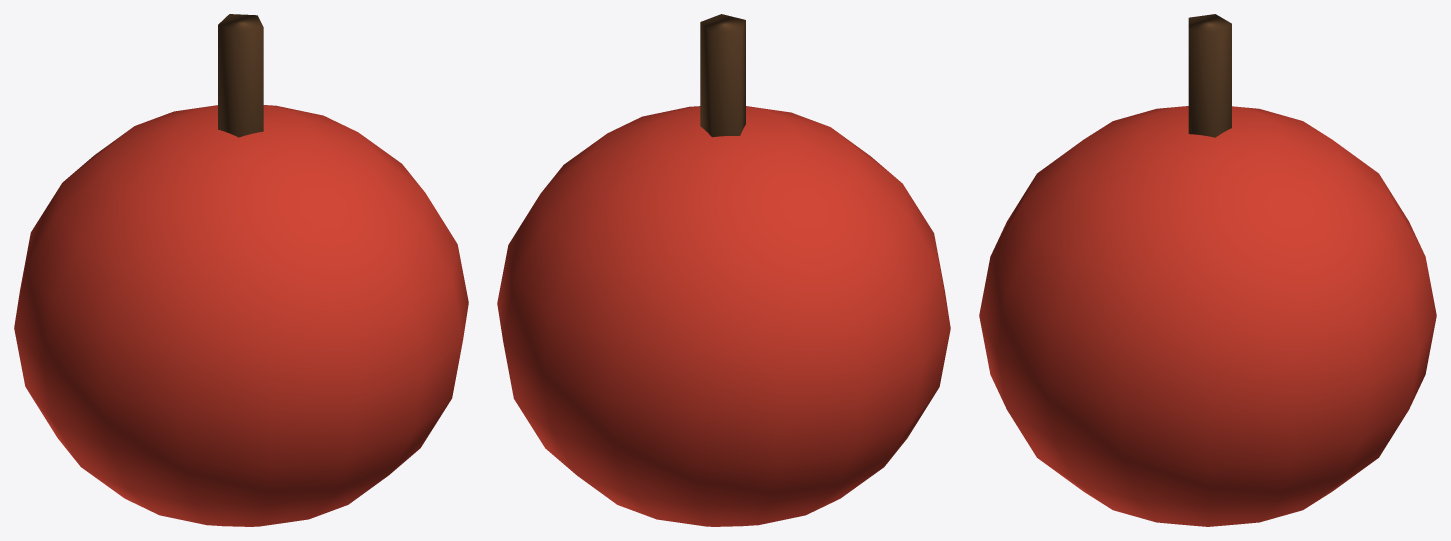
File: apple.fbx
The picture shows the model from 3 angles, left to right: view 1: azimuth 30°, elevation 25°; view 2: azimuth 150°, elevation 25°; view 3: azimuth 270°, elevation 25°; orthographic projection.
Parts seen in each view (by area): view 1: apple; view 2: apple; view 3: apple.
Part boxes in pixels (box(x1,y1,x2,y2)): apple: box(14, 14, 468, 526); apple: box(497, 14, 950, 526); apple: box(979, 14, 1436, 526).
Bounding box in the file's own units: 0.076 × 0.0885 × 0.076.
